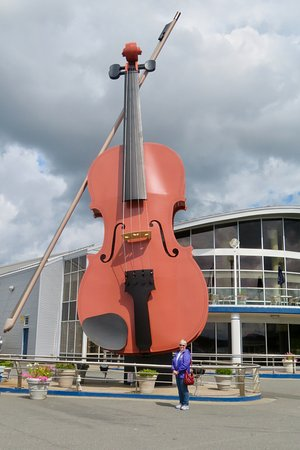Fiddle: (49, 36, 218, 346)
